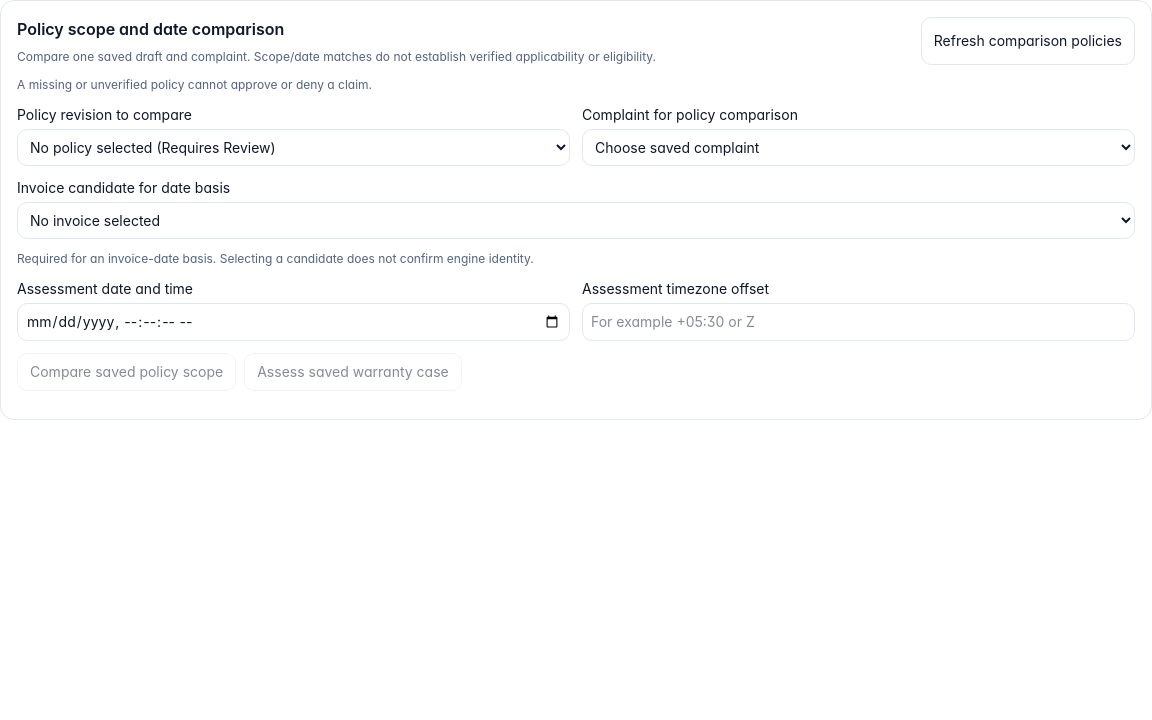
shows a safe error without silently treating assessment failure as an empty decision
This screenshot has width=1152, height=720.
Expected: the button "Assess saved warranty case" is shown, [244, 353, 462, 391]
Select "Fixture policy draft · Revision 1" in the dropdown labelled "Policy revision to compare". click: x=294, y=148
box: [17, 129, 570, 166]
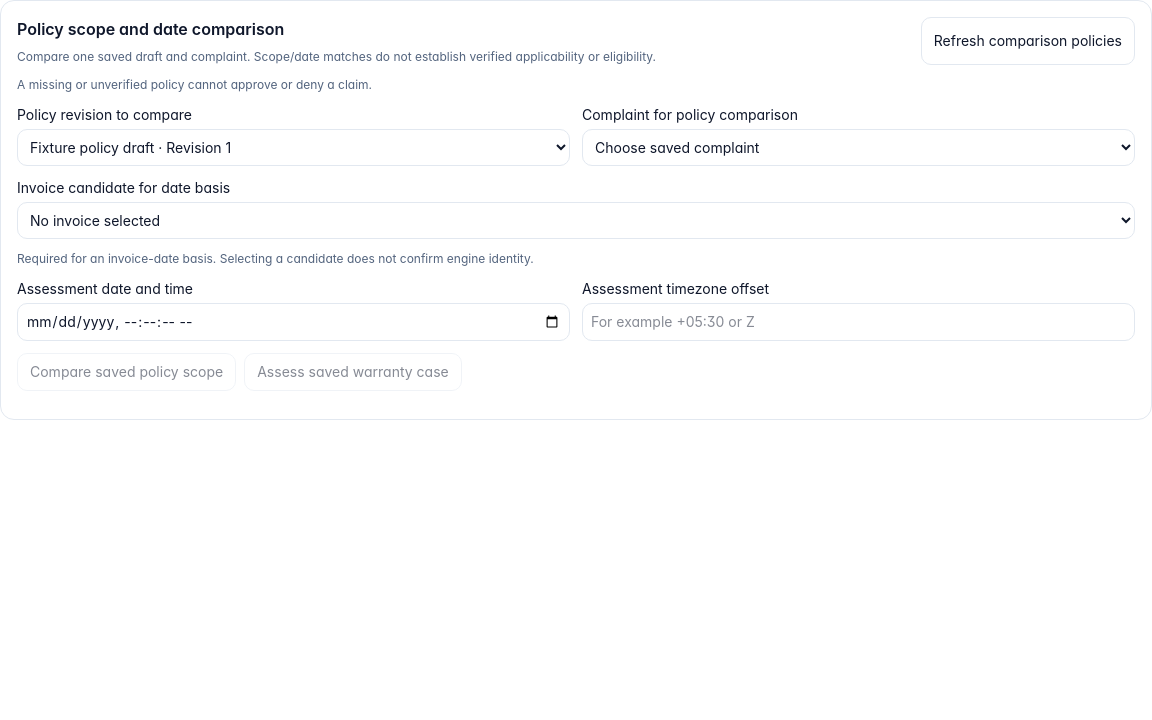
Select "t1" in the dropdown labelled "Complaint for policy comparison". click: x=858, y=148
box: [582, 129, 1135, 166]
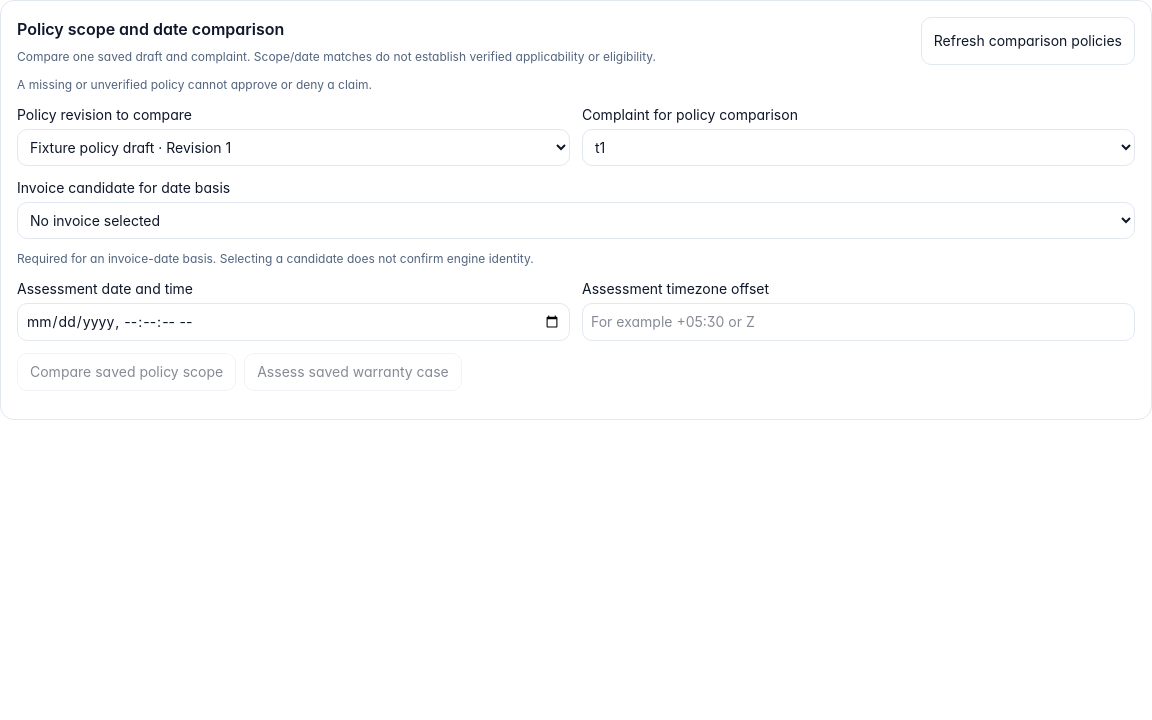
Type "2026-06-01T12:00" into the field labelled "Assessment date and time". click: x=294, y=322
box: [17, 303, 570, 341]
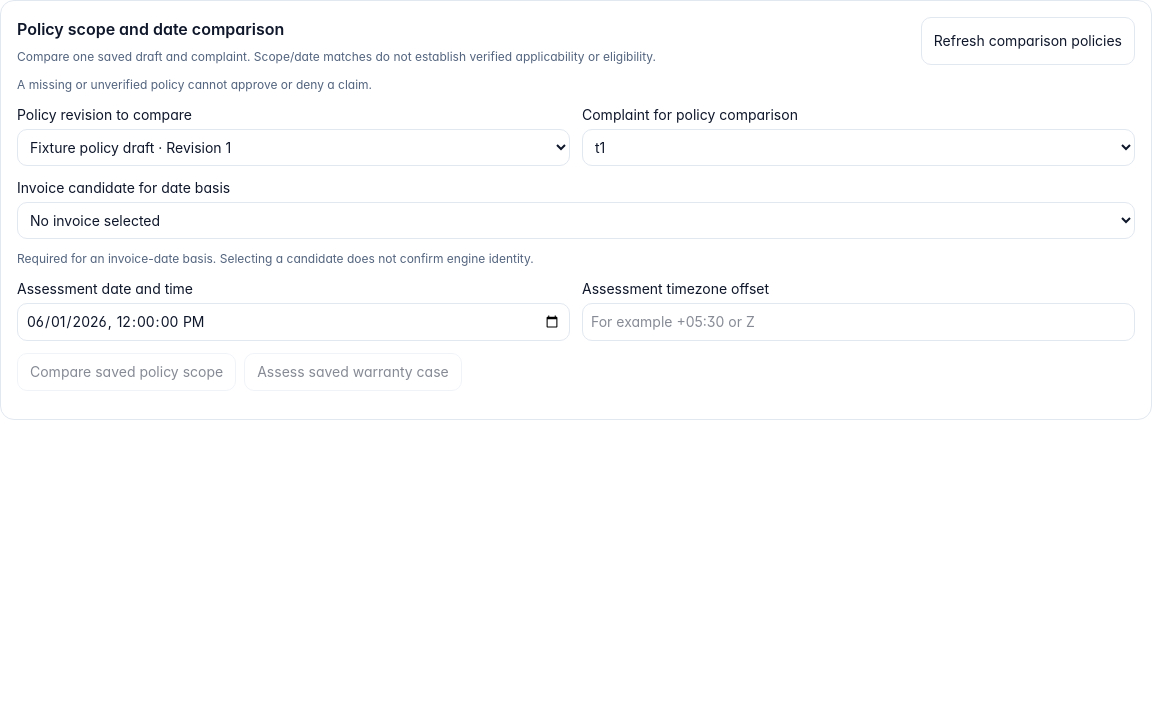
Type "+05:30" into the field labelled "Assessment timezone offset". click: x=858, y=322
box: [582, 303, 1135, 341]
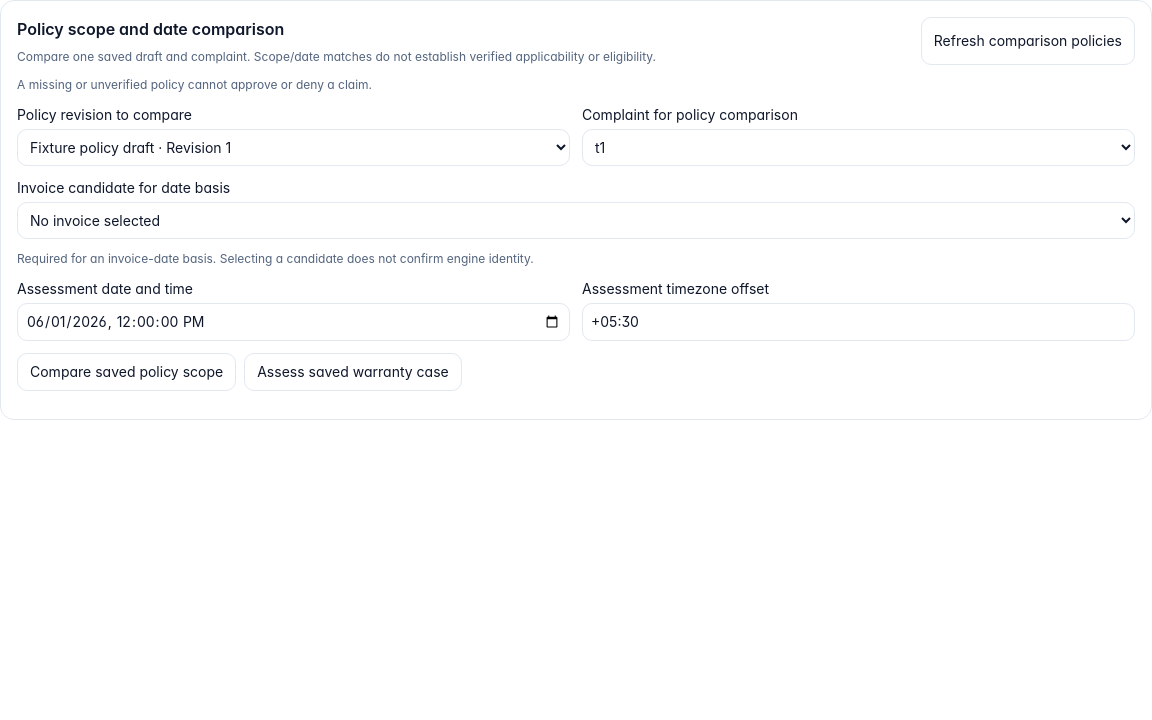
Click the button "Assess saved warranty case". click: x=353, y=372
box: [244, 353, 462, 391]
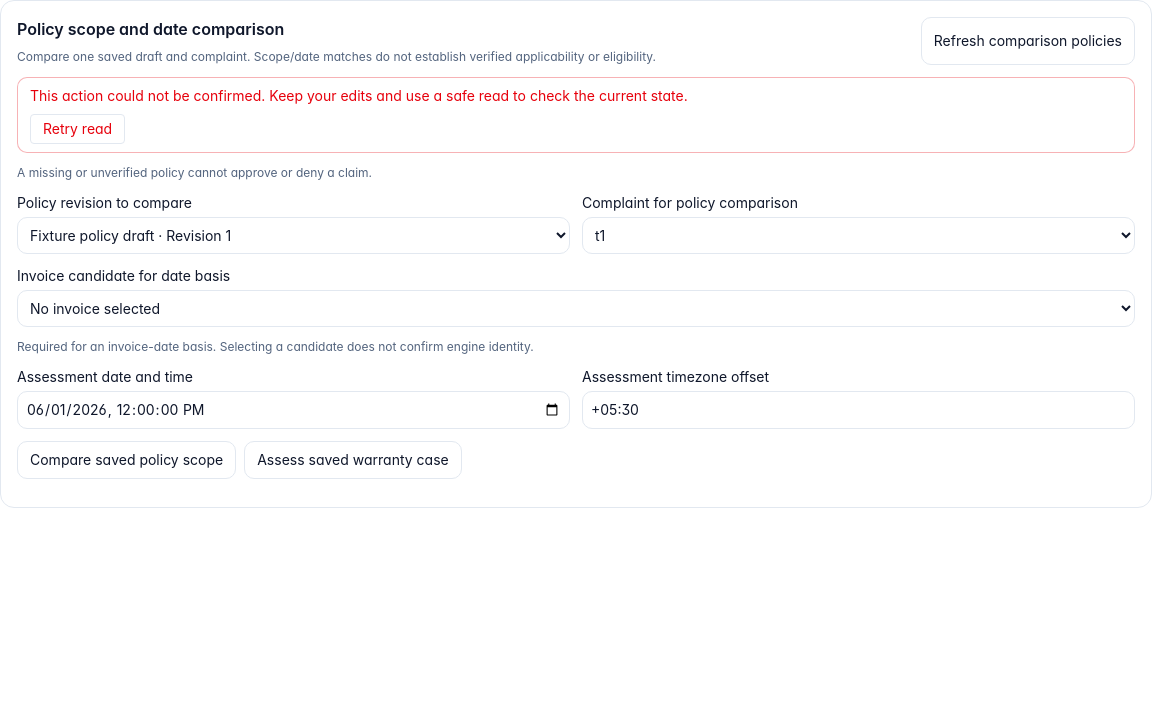
Now the button "Retry read" is shown, box [30, 114, 125, 144]
